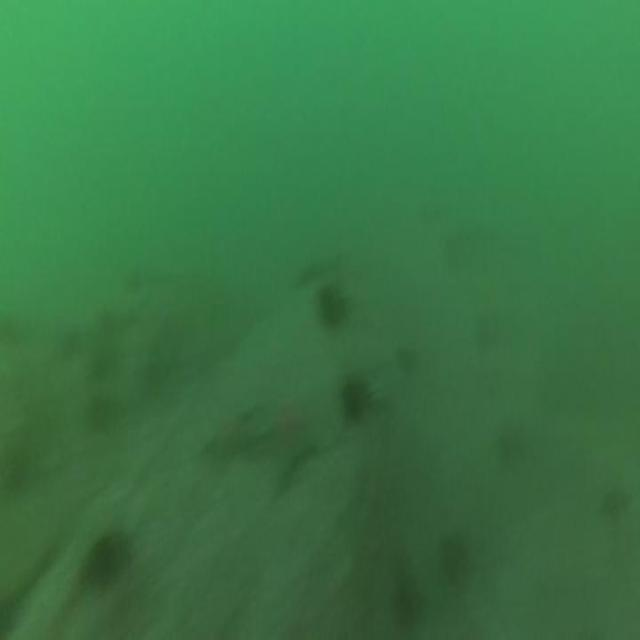echinus: (84, 526, 124, 599), (436, 524, 470, 596), (314, 277, 353, 335), (338, 368, 374, 428), (598, 476, 636, 526), (55, 319, 85, 365), (85, 389, 111, 441)
starfish: (199, 384, 335, 504)
